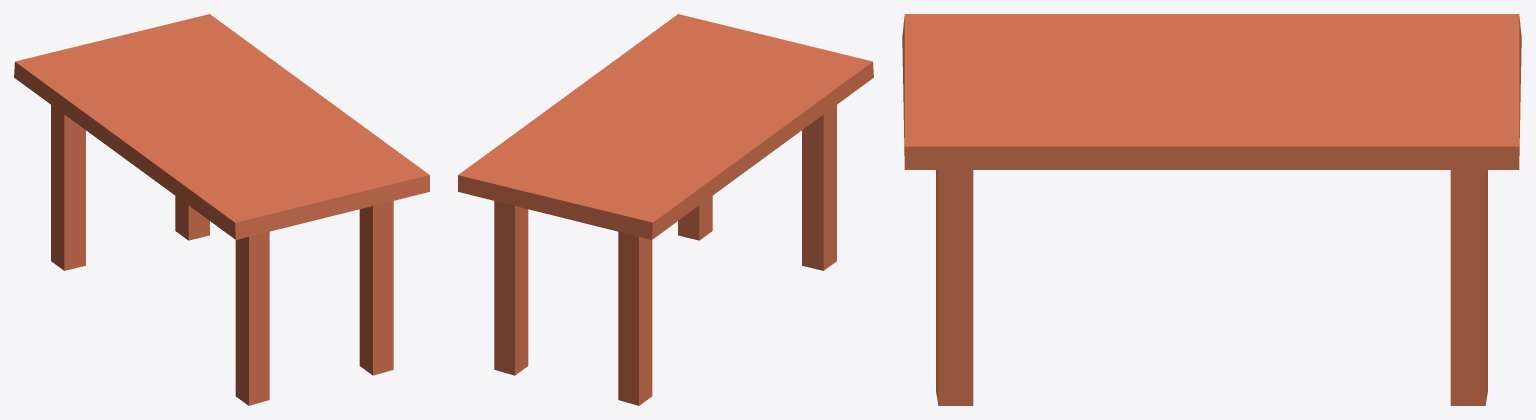
The model's file is table.fbx.
The picture shows the model from 3 angles, left to right: view 1: azimuth 30°, elevation 25°; view 2: azimuth 150°, elevation 25°; view 3: azimuth 270°, elevation 25°; orthographic projection. The views are drawn at different scales.
Visible parts, largest first — view 1: Cube; view 2: Cube; view 3: Cube.
Boxes of the visible parts, x1=… form: Cube: x1=14, y1=14, x2=429, y2=405; Cube: x1=458, y1=14, x2=873, y2=405; Cube: x1=902, y1=14, x2=1521, y2=405.
Bounding box in the file's own units: 188 × 182 × 371.
